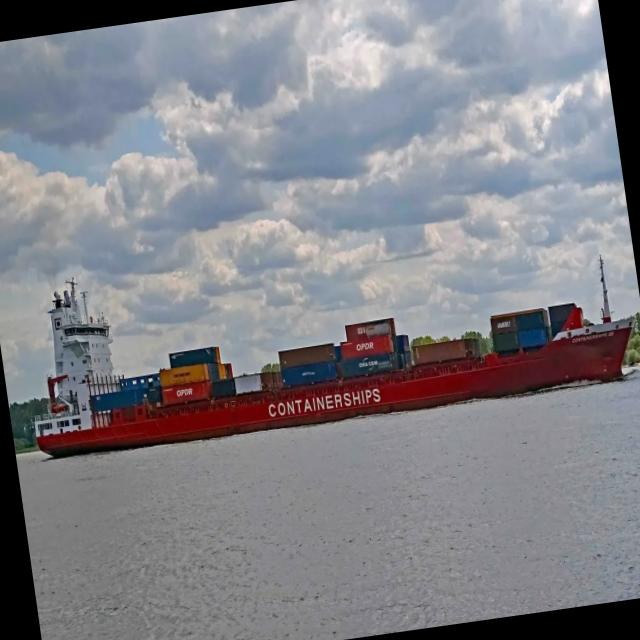Cargo: (35, 257, 632, 457)
